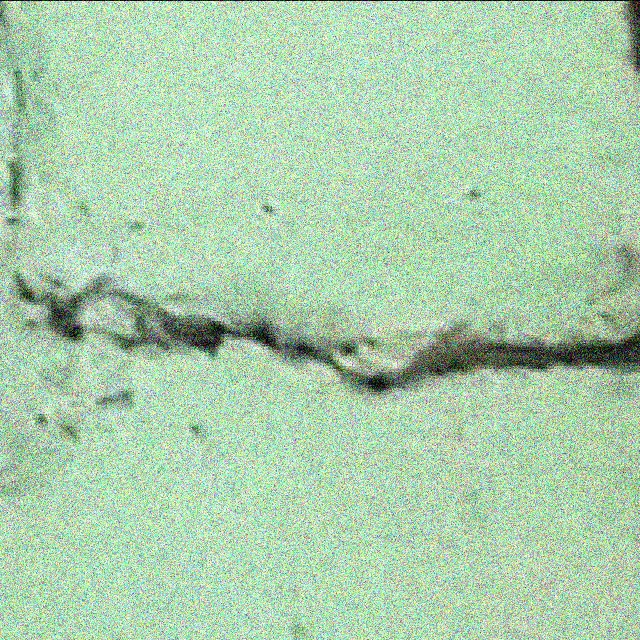SurfaceCrack: (16, 246, 640, 428)
